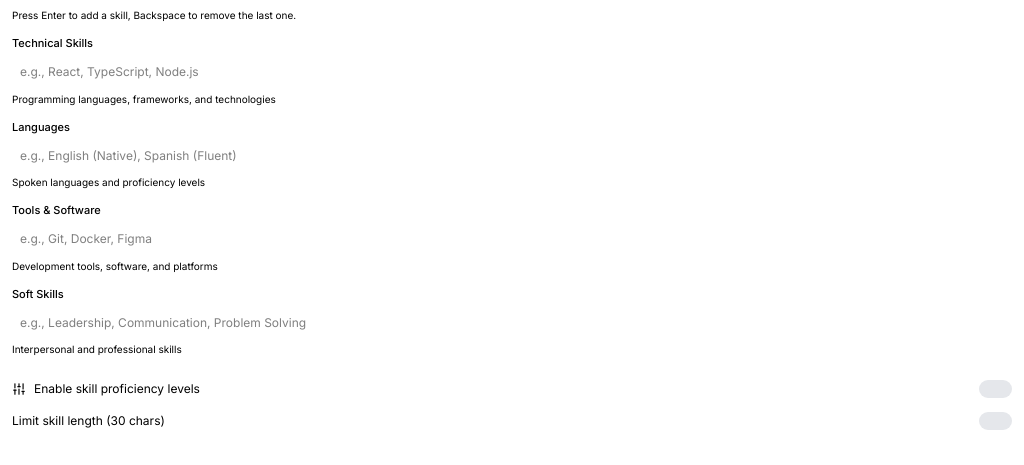
SkillsForm › Adding Skills - Other Categories › adds language skills
This screenshot has width=1024, height=465.
Type "English (Native)" into the field with placeholder "e.g., English (Native), Spanish (Fluent)" at point(512, 155), box [20, 145, 1004, 165]
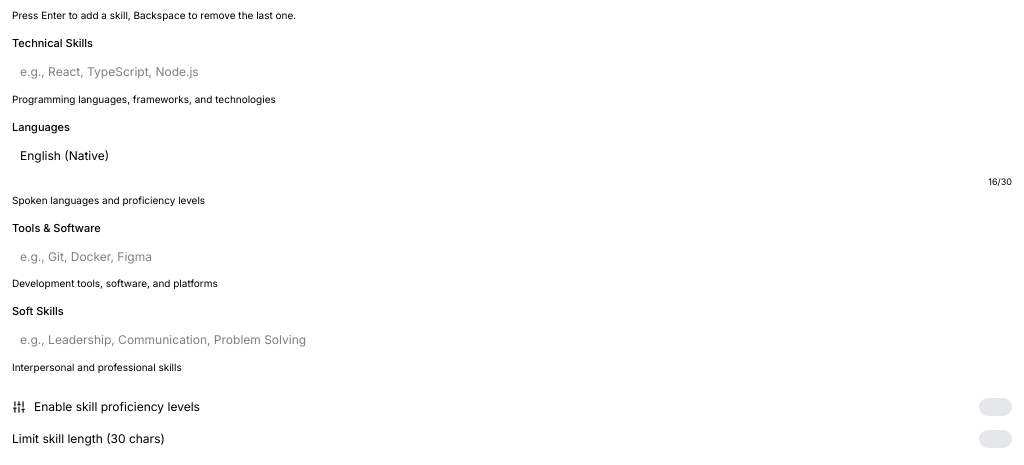
Press Enter
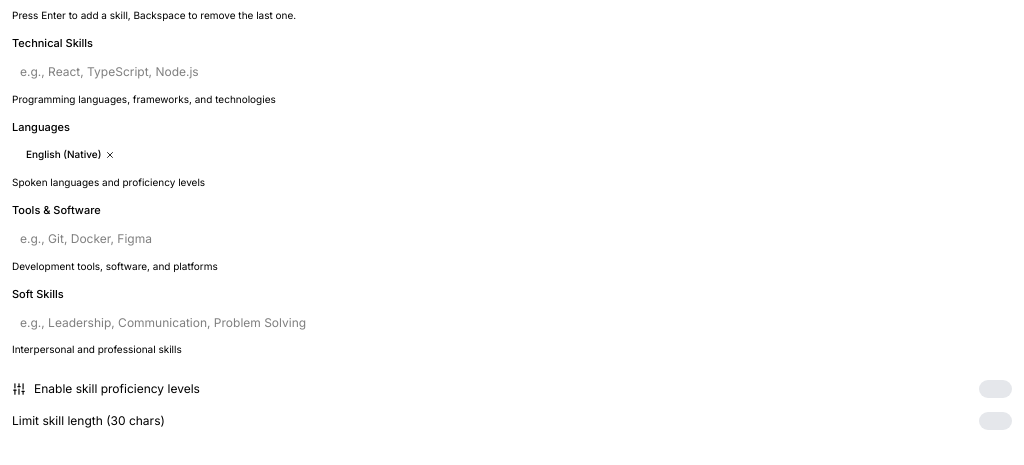
Result: the text "English (Native)" is shown at [26, 148, 101, 162]
